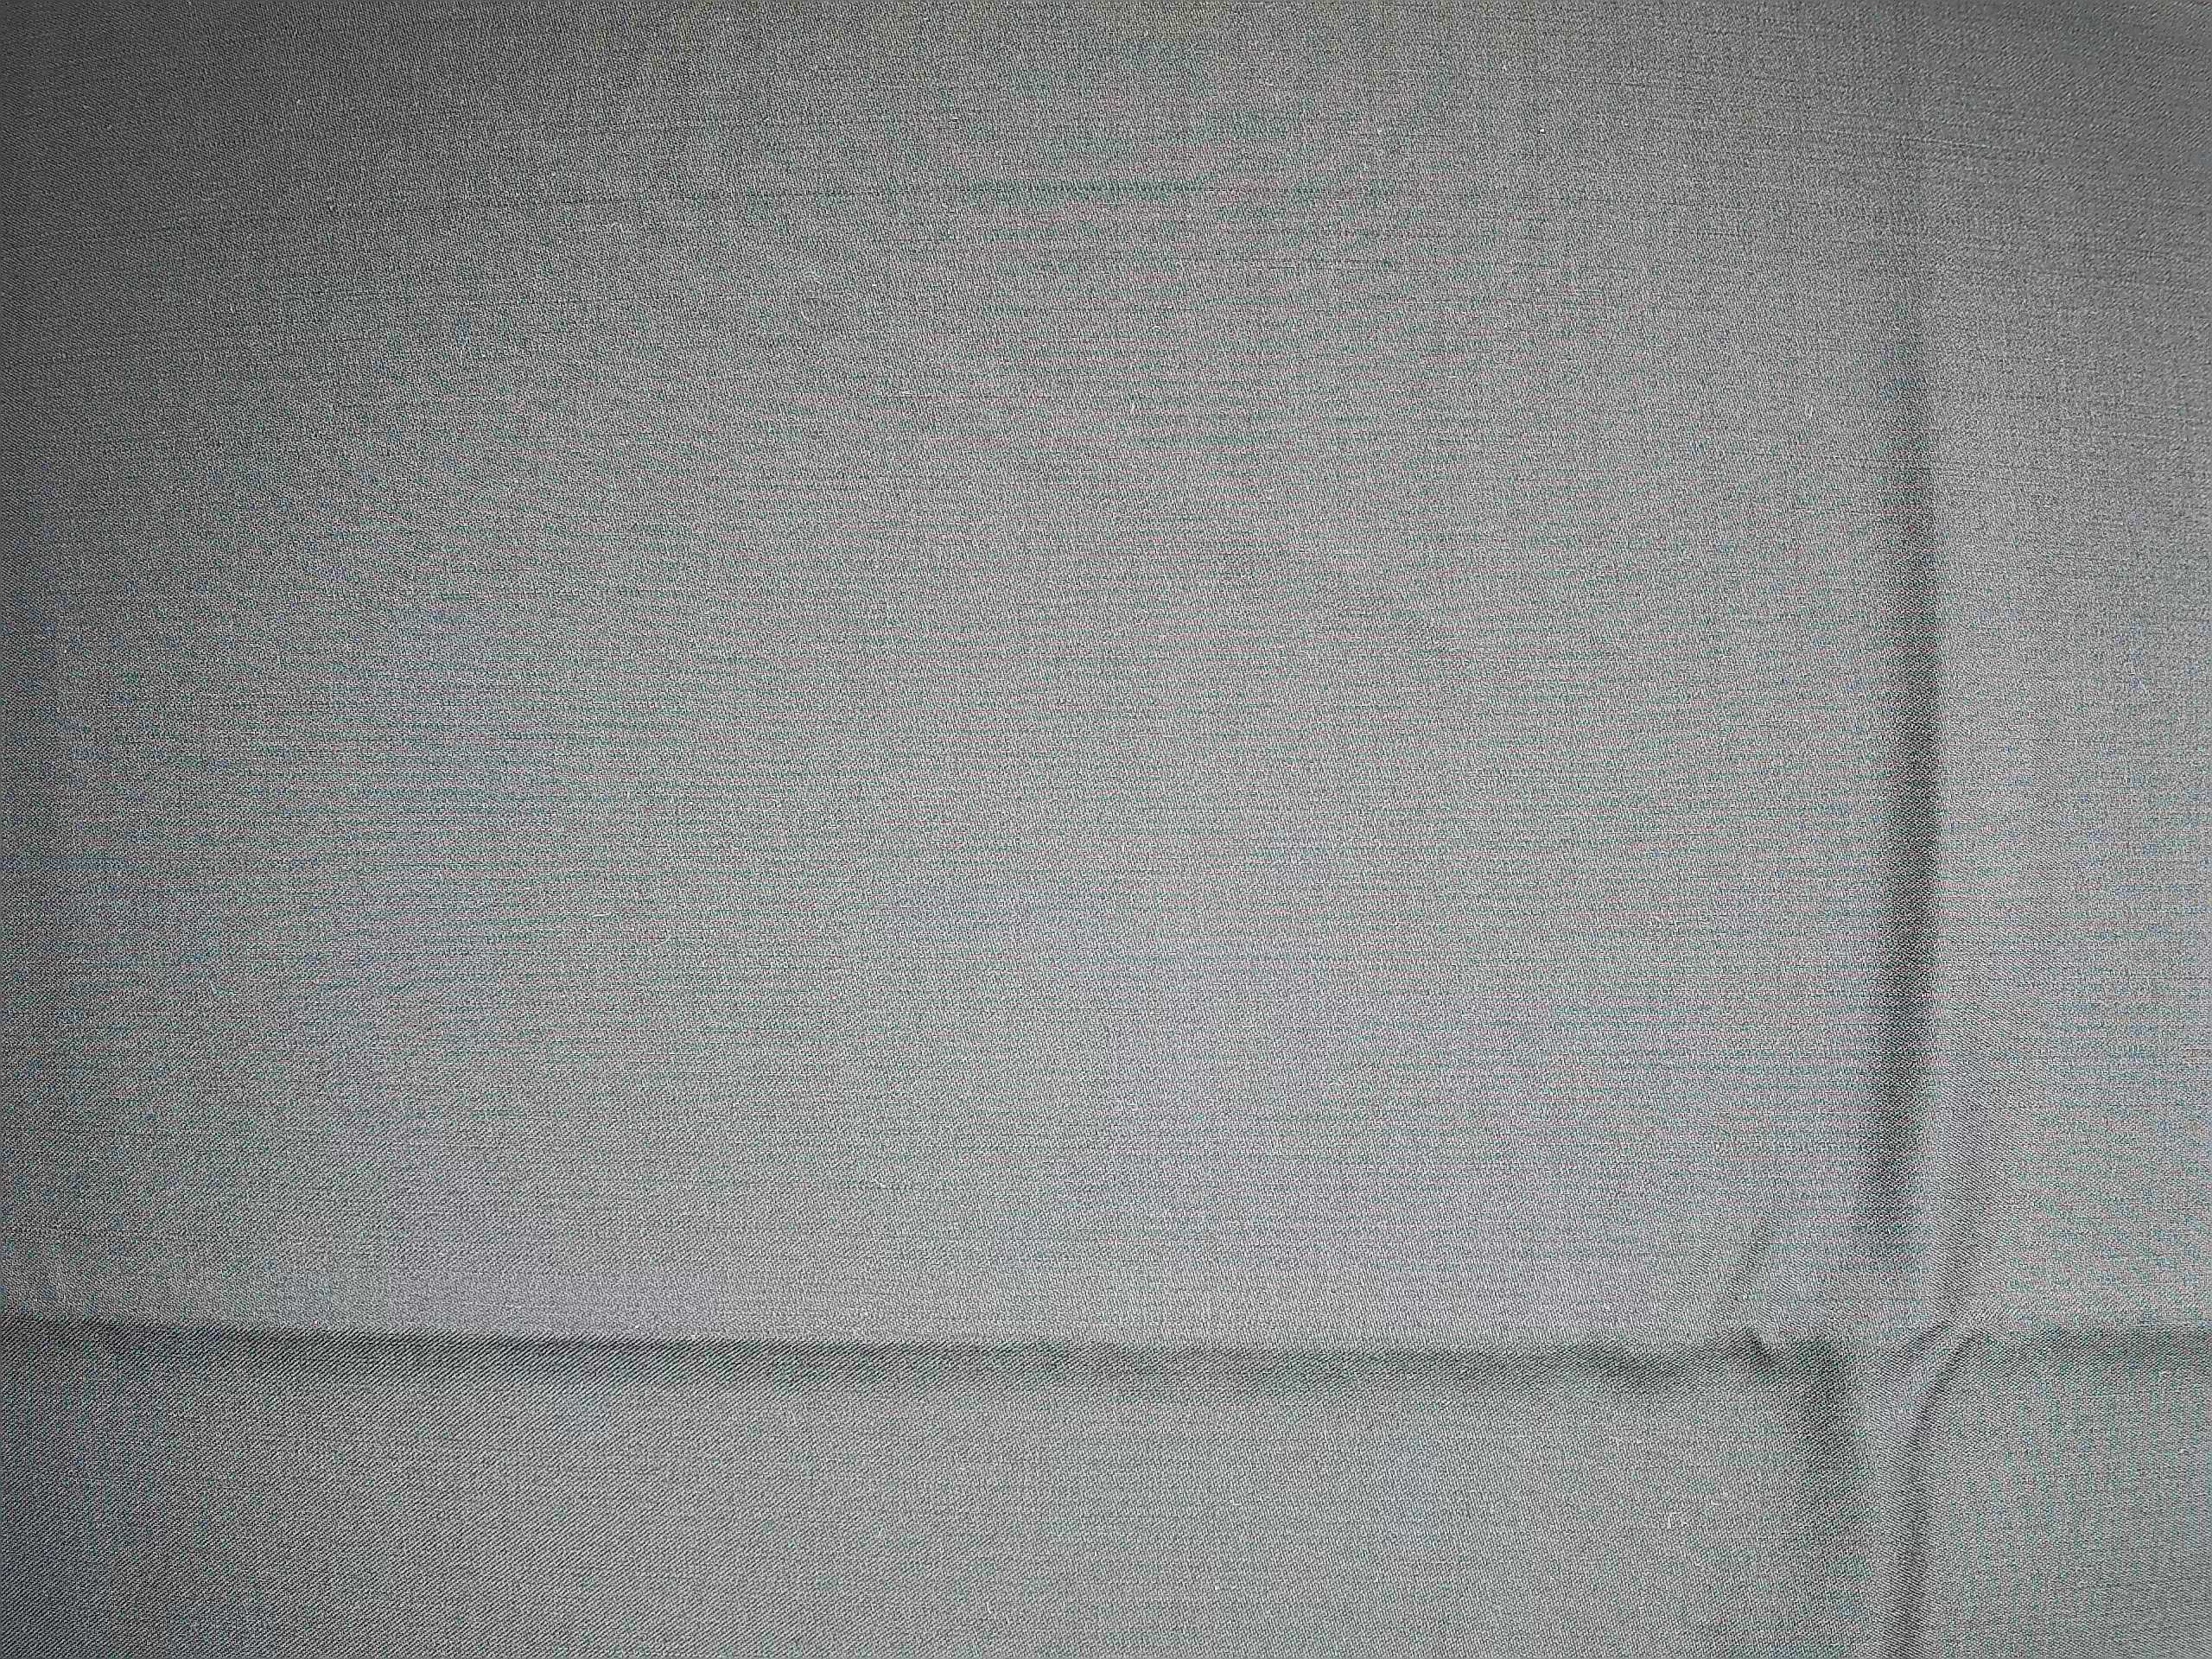others: (61, 167, 1806, 223)
